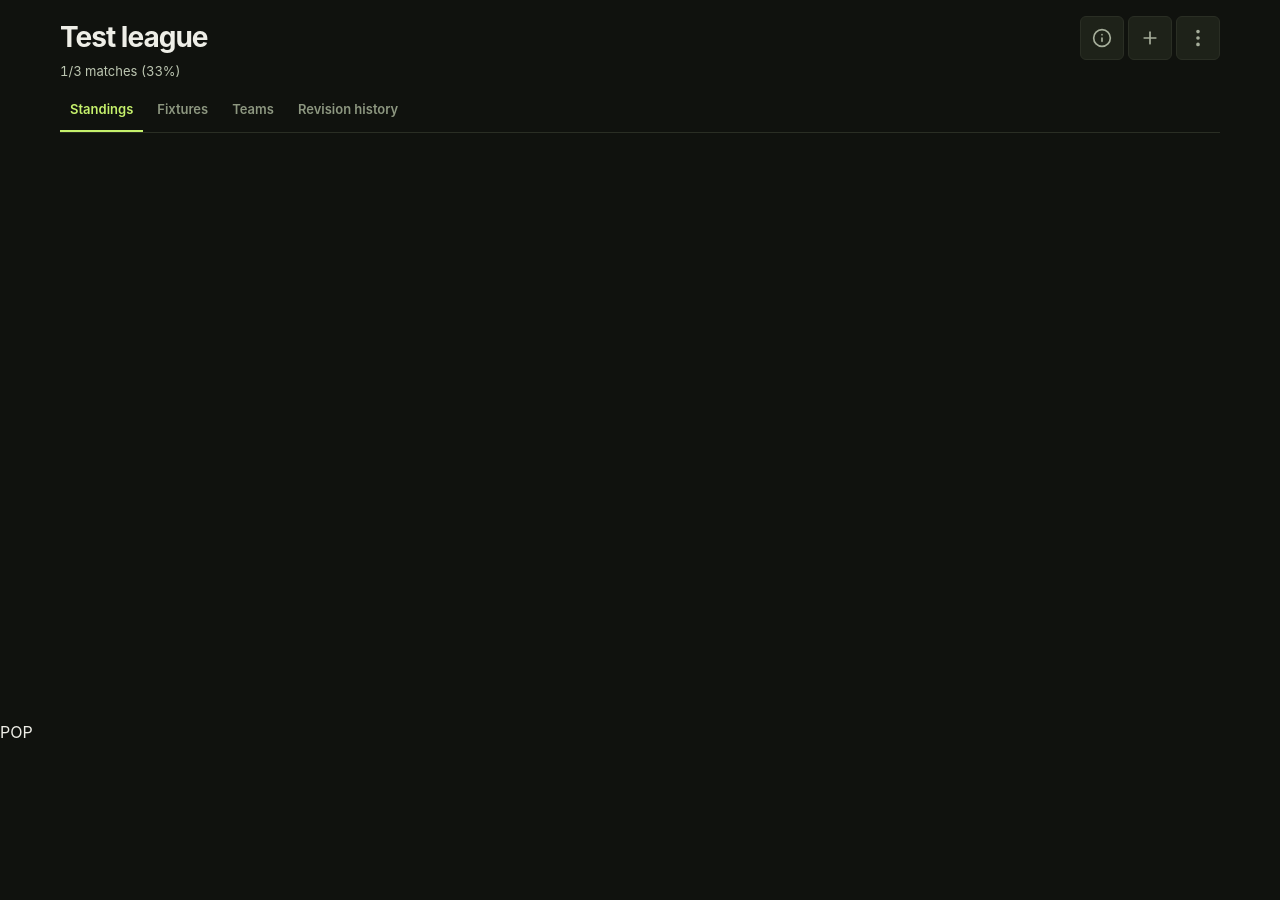
Test: picker save uses actual fixture orientation and revisions, then closes and focuses plus
Click the button named "Enter result": (1150, 38) [1128, 16, 1172, 60]
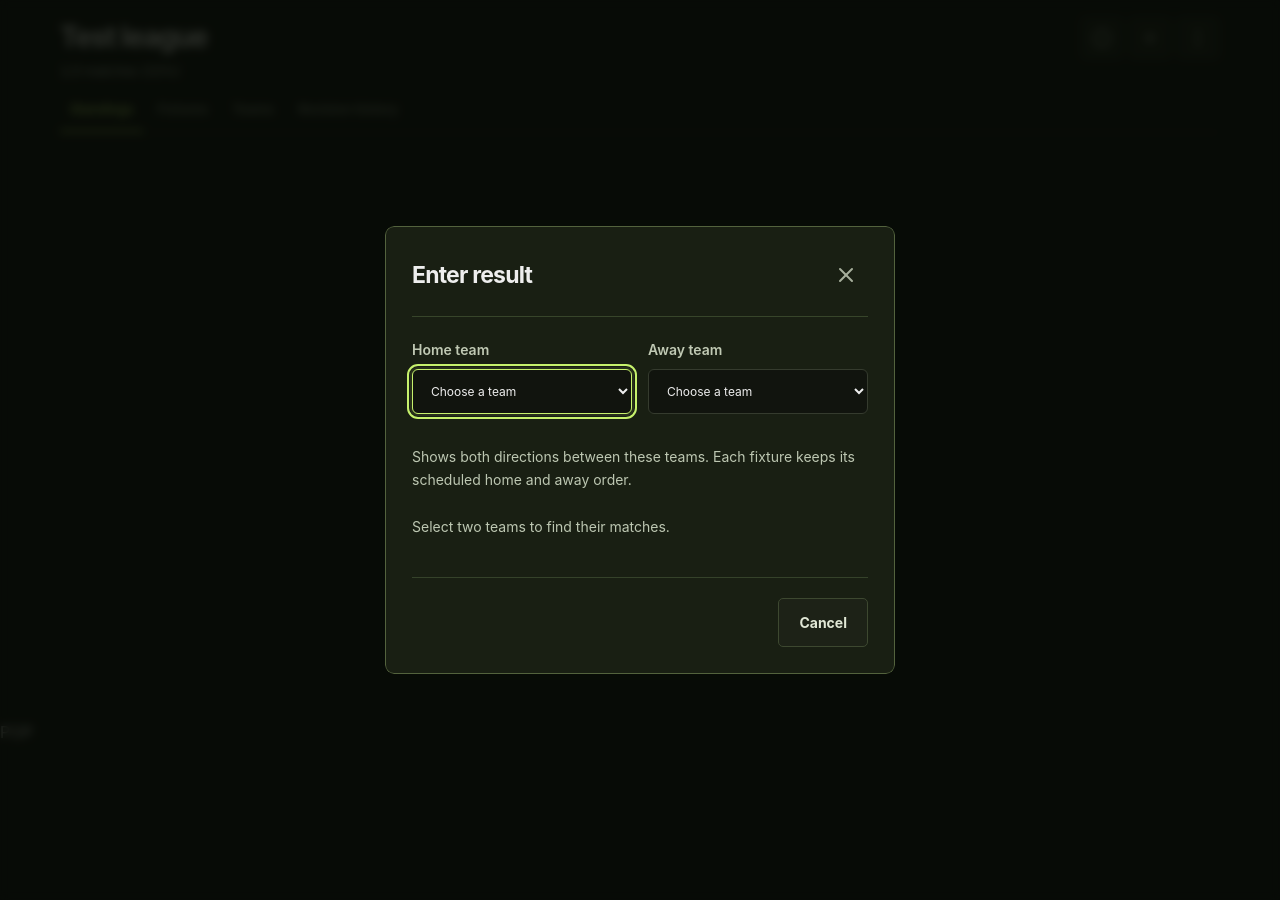
Select "Alpha" in the dropdown labelled "Home team": (522, 391) [412, 369, 632, 414]
Select "Beta" in the dropdown labelled "Away team": (758, 391) [648, 369, 868, 414]
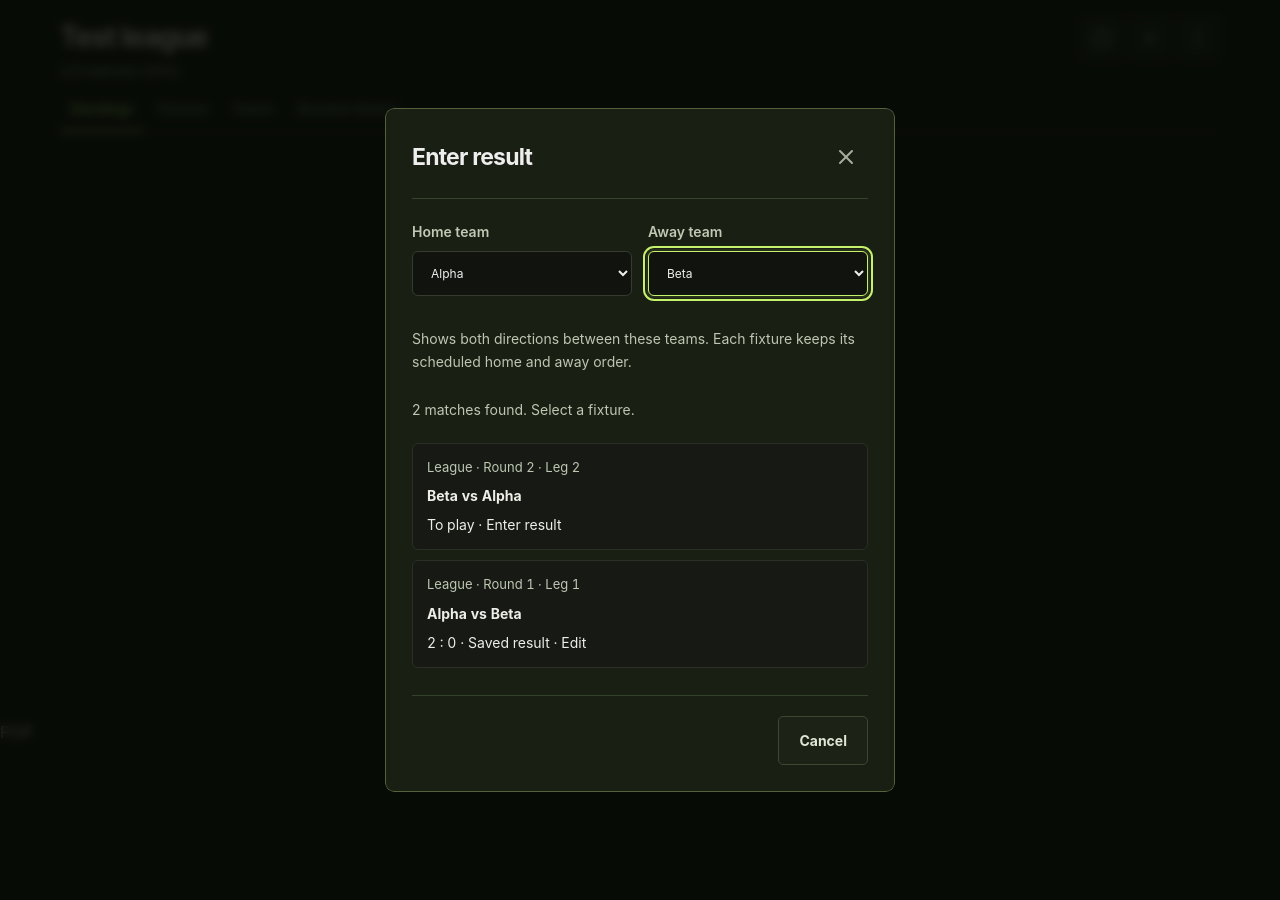
Click the button with aria-label "Select fixture:": (450, 467) [412, 443, 868, 550]
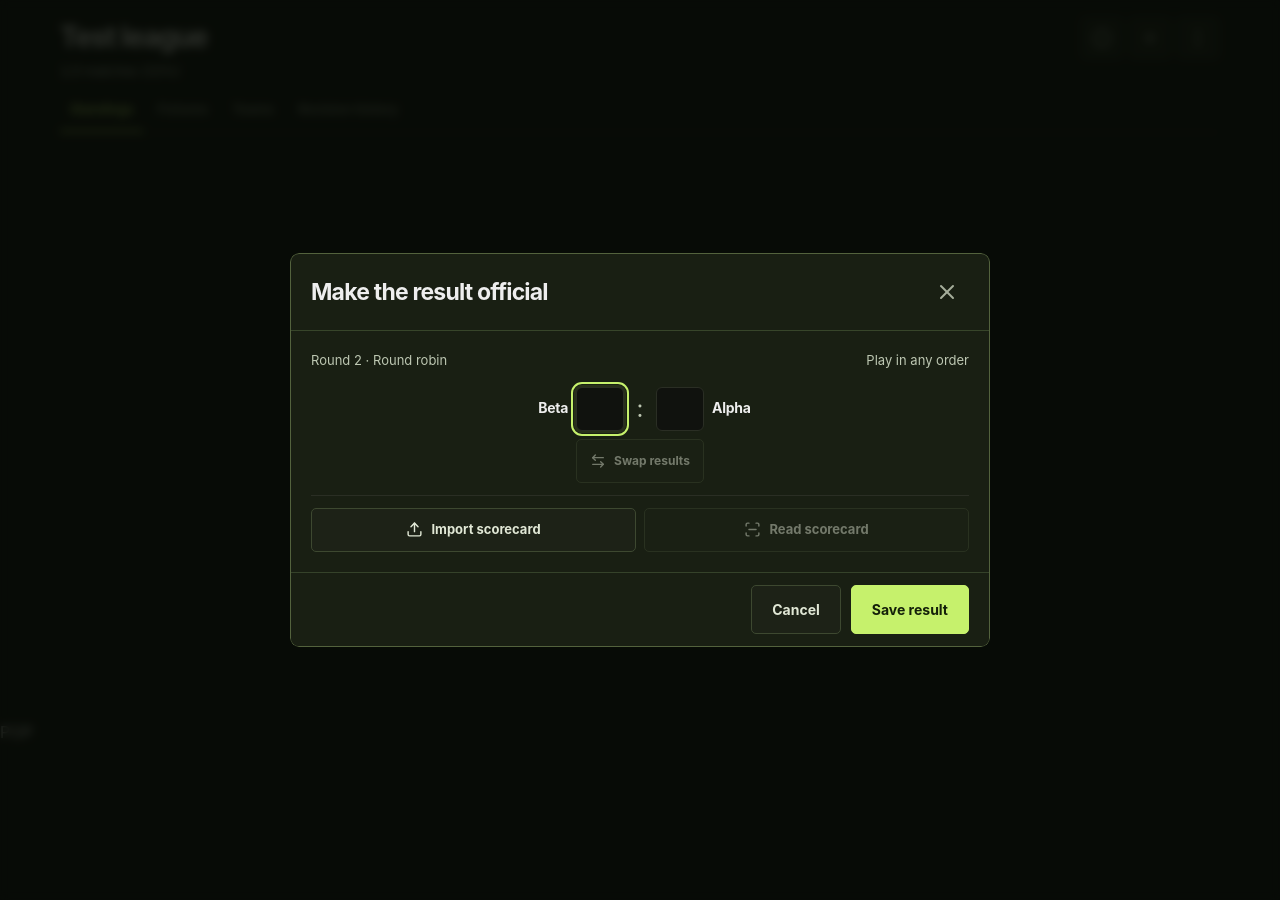
In the 1st number field named "Beta score": (600, 409) [576, 387, 624, 431], type "3"
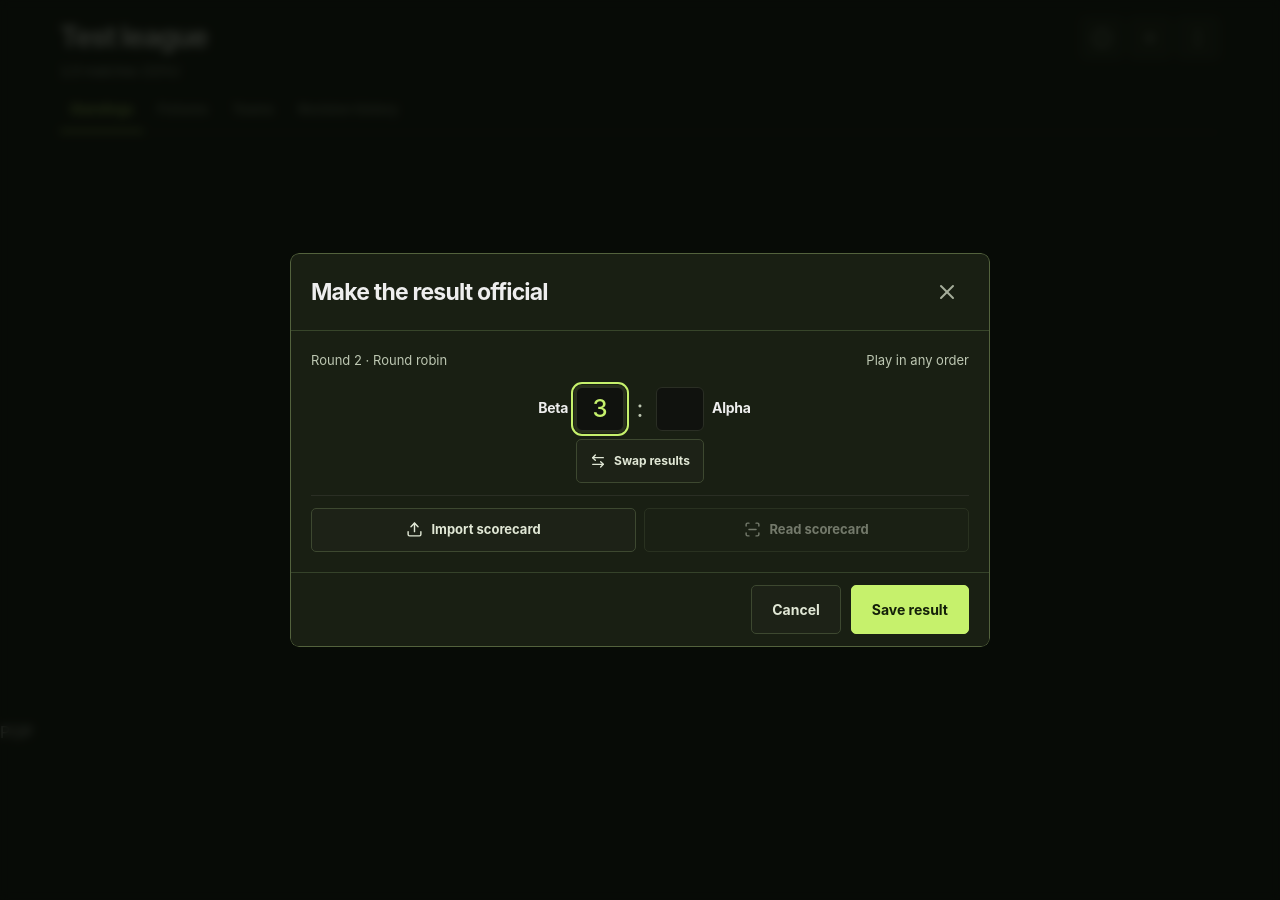
In the 2nd number field named "Alpha score": (680, 409) [656, 387, 704, 431], type "1"
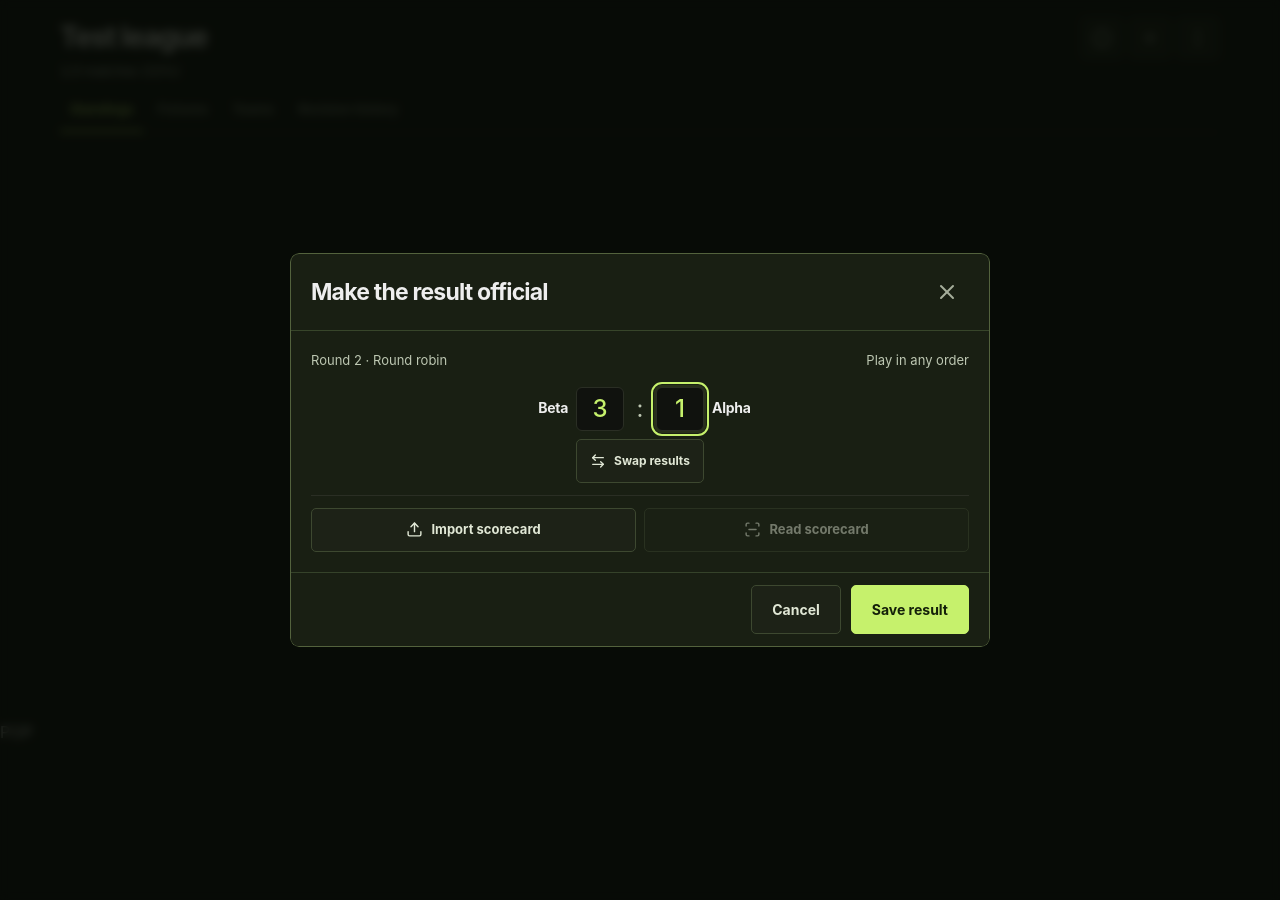
Click the button "Save result": (910, 609) [851, 585, 969, 634]
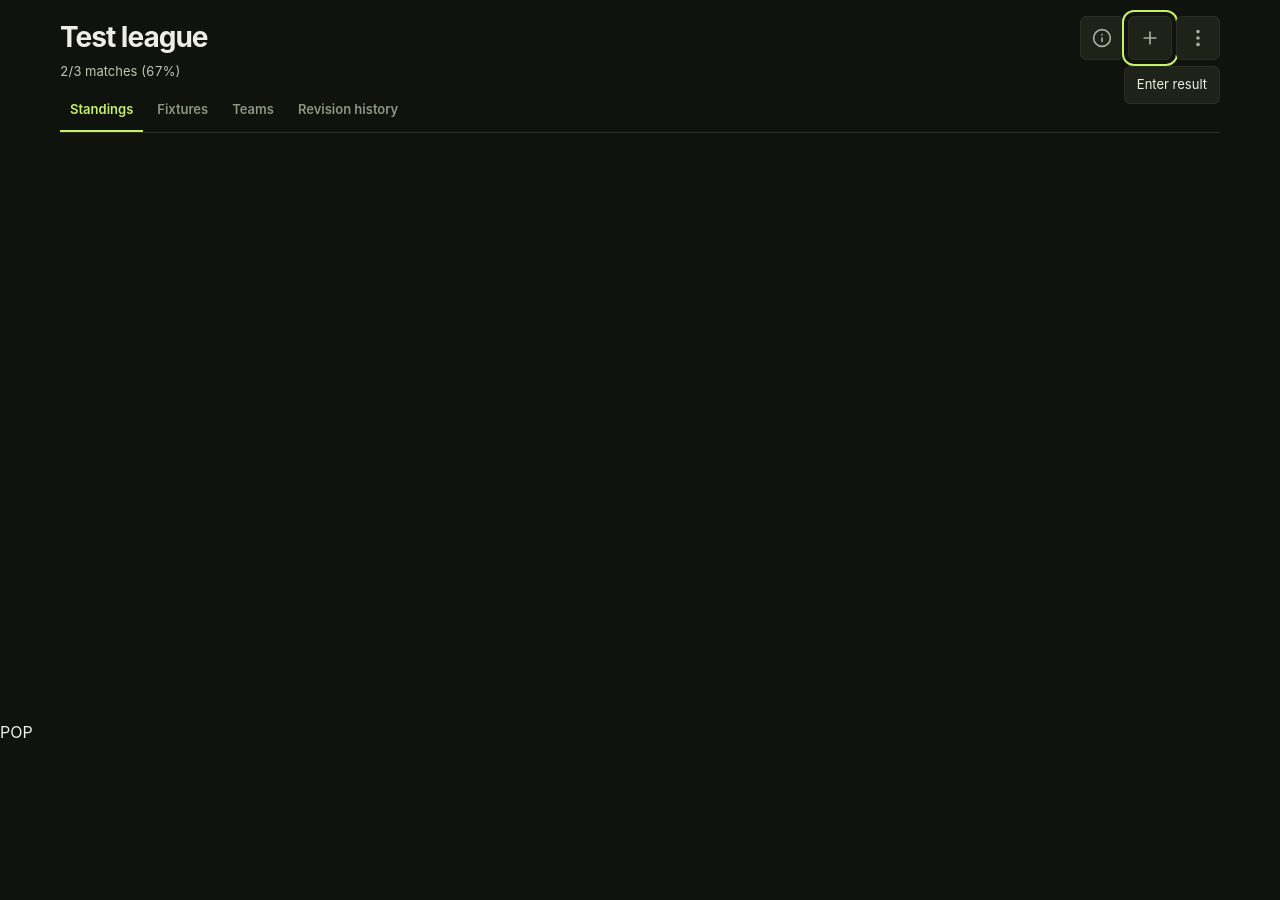
Check: the dialog is gone
